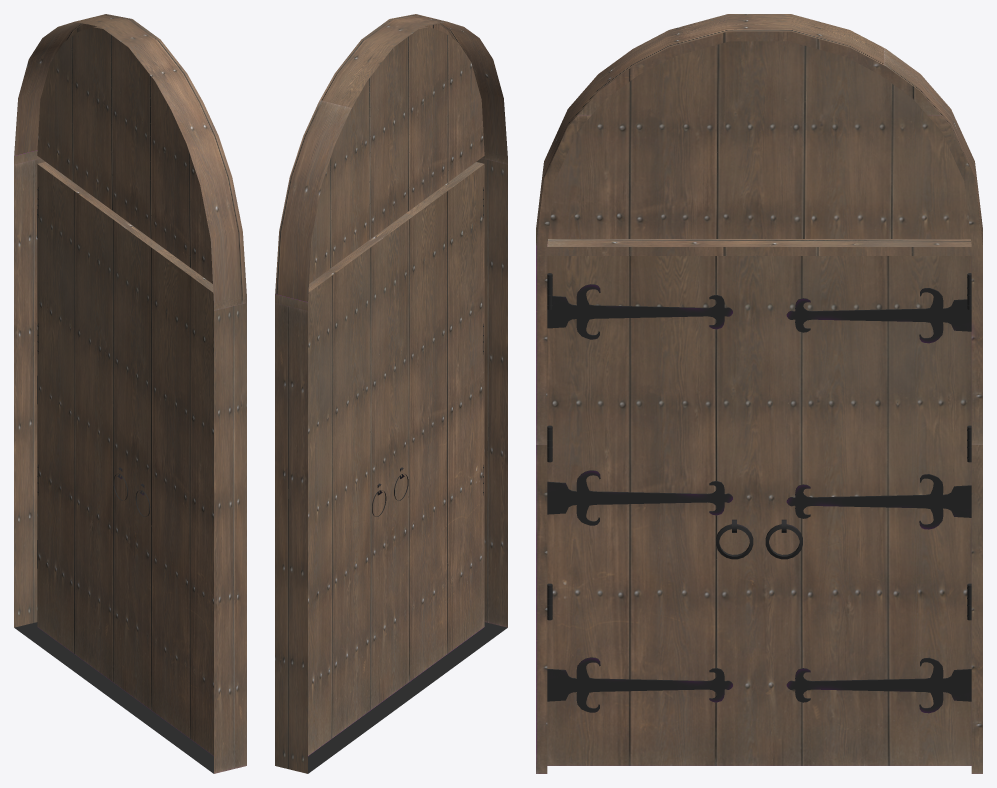
File: Door.fbx
The picture shows the model from 3 angles, left to right: view 1: azimuth 30°, elevation 25°; view 2: azimuth 150°, elevation 25°; view 3: azimuth 270°, elevation 25°; orthographic projection. The views are drawn at different scales.
Visible parts, largest first — view 1: polySurface1; view 2: polySurface1; view 3: polySurface1.
Boxes of the visible parts, x1=… form: polySurface1: x1=14, y1=14, x2=246, y2=773; polySurface1: x1=275, y1=14, x2=507, y2=773; polySurface1: x1=536, y1=14, x2=982, y2=773.
Bounding box in the file's own units: 0.6331 × 12.19 × 6.65.
